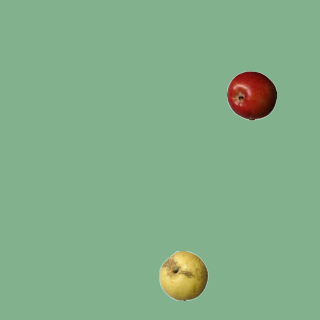Apple Braeburn: (226, 70, 276, 120)
Apple Golden 1: (158, 250, 208, 300)
